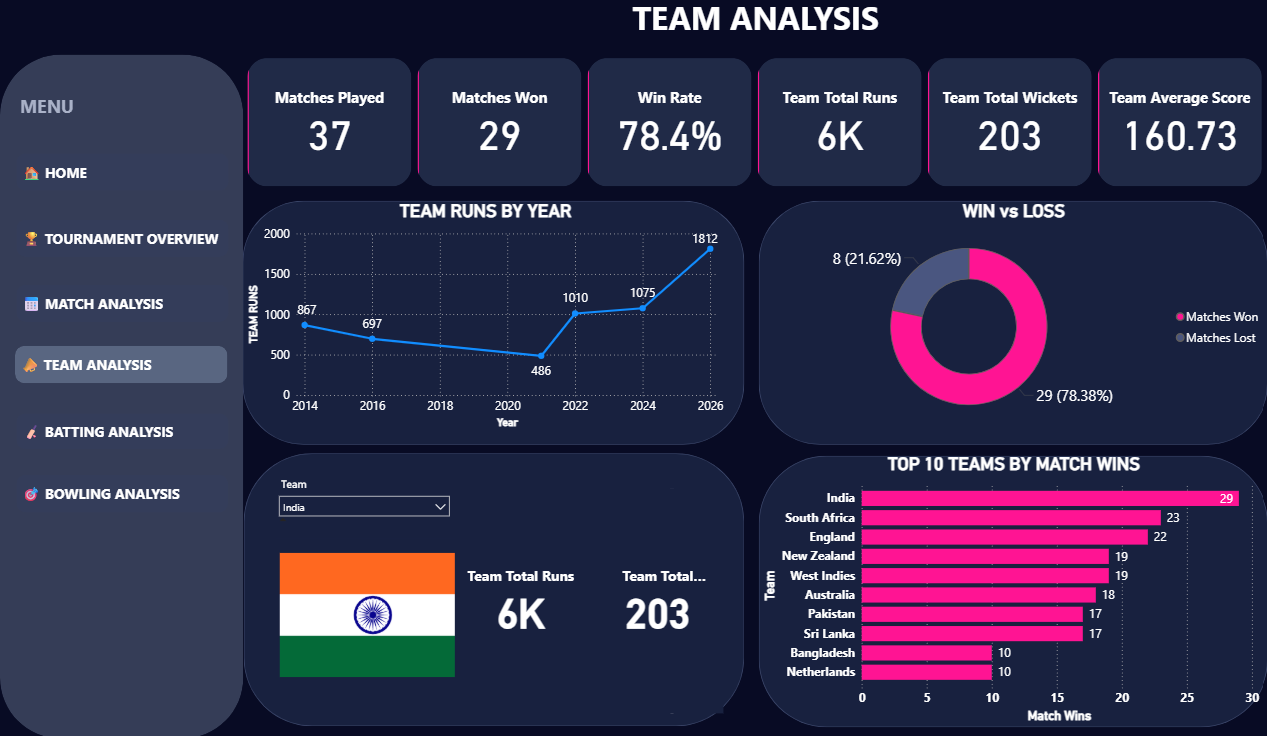

What the dashboard file says about the page in this screenshot:
{"tool":"powerbi","page":{"name":"TEAM ANALYSIS","canvas":[1700,1000],"ordinal":3},"visuals":[{"type":"shape","box":[327.1,619,670.8,365.9],"z":1000},{"type":"shape","box":[1016.3,279,683.7,327.1],"z":2000},{"type":"shape","box":[325.2,279,672.6,327.1],"z":2500},{"type":"shape","box":[1016.3,620.9,683.7,364],"z":3000},{"type":"shape","box":[0,83.2,326.1,917.1],"z":4000},{"type":"textbox","box":[21.8,132.4,196,43.6],"z":5000},{"type":"actionButton","box":[21.8,216.2,284.9,50.3],"z":6000},{"type":"actionButton","box":[21.8,305,284.9,50.3],"z":7000},{"type":"actionButton","box":[20.1,474.2,284.9,50.3],"z":8000},{"type":"actionButton","box":[21.8,392.1,284.9,50.3],"z":9000},{"type":"actionButton","box":[22.2,565.4,284.6,48],"z":10000},{"type":"actionButton","box":[21.9,647,284.3,51],"z":11000},{"type":"textbox","box":[326.7,0,1372.3,83.8],"z":12000},{"type":"tableEx","fields":{"Values":["Teams.Logo"]},"box":[364,659.7,547,312.3],"z":13000},{"type":"cardVisual","fields":{"Data":["Teams.Team Total Runs","Teams.Team Total Wickets"]},"box":[604.2,659.7,371.4,312.3],"z":14000},{"type":"slicer","fields":{"Values":["Teams.Team"]},"box":[364,646.7,249.5,77.6],"z":15000},{"type":"clusteredBarChart","title":"TOP 10 TEAMS BY MATCH WINS","fields":{"Category":["Teams.Team"],"Y":["Teams_Winner.Team Matches Won"]},"box":[1016.3,619,683.7,365.9],"z":16000},{"type":"cardVisual","fields":{"Data":["venues.Matches Played","matches.Matches Won","venues.Win Rate","Teams.Team Total Runs","Teams.Team Total Wickets","venues.Team Average Score"]},"box":[326.7,83.8,1372.3,182.6],"z":17000},{"type":"lineChart","title":"TEAM RUNS BY YEAR","fields":{"Category":["matches.Year"],"Y":["Teams.Team Total Runs"]},"box":[327.1,279,648.6,310.4],"z":18000},{"type":"donutChart","title":"WIN vs LOSS","fields":{"Y":["matches.Matches Won","venues.Matches Lost"]},"box":[1016.3,279,683.7,310.4],"z":19000}]}

Visuals, with their boxes in screenshot pixels (x1, y1, x2, y2), scaled from the page's 1700x1000 canvas onto the 1267x736 screenshot:
shape: l=244, t=456, r=744, b=725
shape: l=757, t=205, r=1266, b=446
shape: l=242, t=205, r=744, b=446
shape: l=757, t=457, r=1266, b=725
shape: l=0, t=61, r=243, b=735
textbox: l=16, t=97, r=162, b=130
actionButton: l=16, t=159, r=229, b=196
actionButton: l=16, t=224, r=229, b=262
actionButton: l=15, t=349, r=227, b=386
actionButton: l=16, t=289, r=229, b=326
actionButton: l=17, t=416, r=229, b=451
actionButton: l=16, t=476, r=228, b=514
textbox: l=243, t=0, r=1266, b=62
tableEx - Teams.Logo: l=271, t=486, r=679, b=715
cardVisual - Teams.Team Total Runs x Teams.Team Total Wickets: l=450, t=486, r=727, b=715
slicer - Teams.Team: l=271, t=476, r=457, b=533
"TOP 10 TEAMS BY MATCH WINS" clusteredBarChart: l=757, t=456, r=1266, b=725
cardVisual - venues.Matches Played x matches.Matches Won: l=243, t=62, r=1266, b=196
"TEAM RUNS BY YEAR" lineChart: l=244, t=205, r=727, b=434
"WIN vs LOSS" donutChart: l=757, t=205, r=1266, b=434
